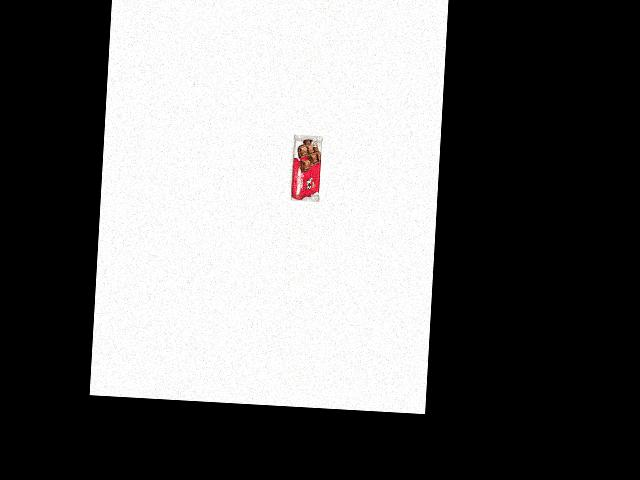chocolate: (274, 132, 319, 212)
